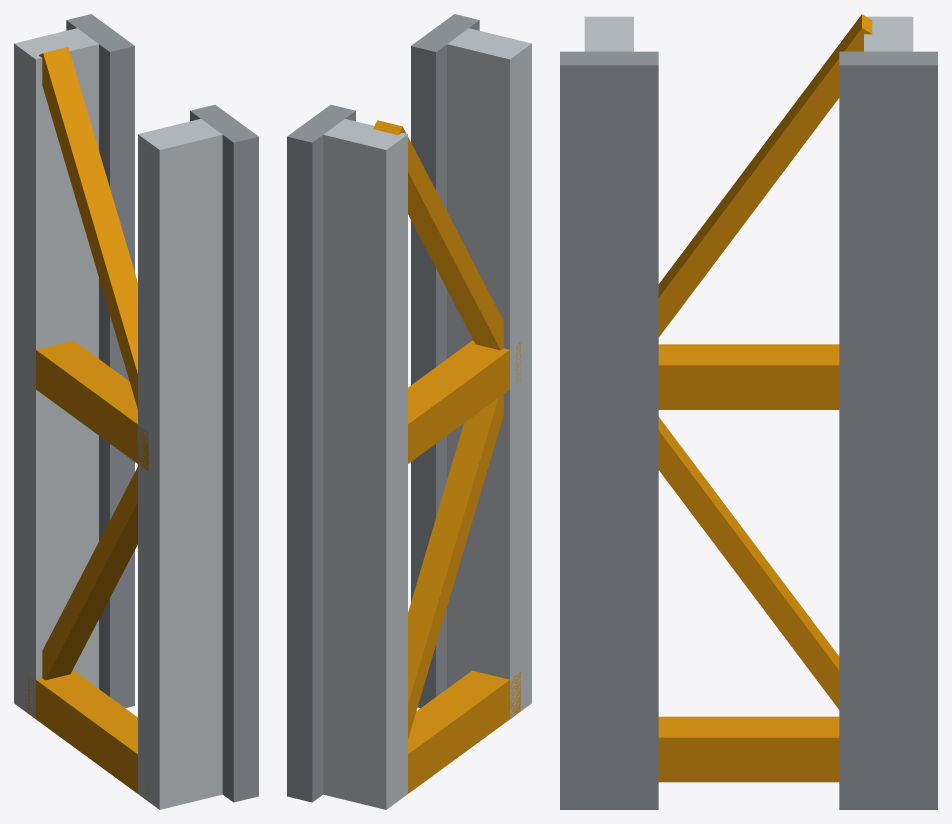
File: body.obj
The picture shows the model from 3 angles, left to right: view 1: azimuth 30°, elevation 25°; view 2: azimuth 150°, elevation 25°; view 3: azimuth 270°, elevation 25°; orthographic projection. The views are drawn at different scales.
Bounding box in the file's own units: 0.14 × 1.01 × 0.46.
